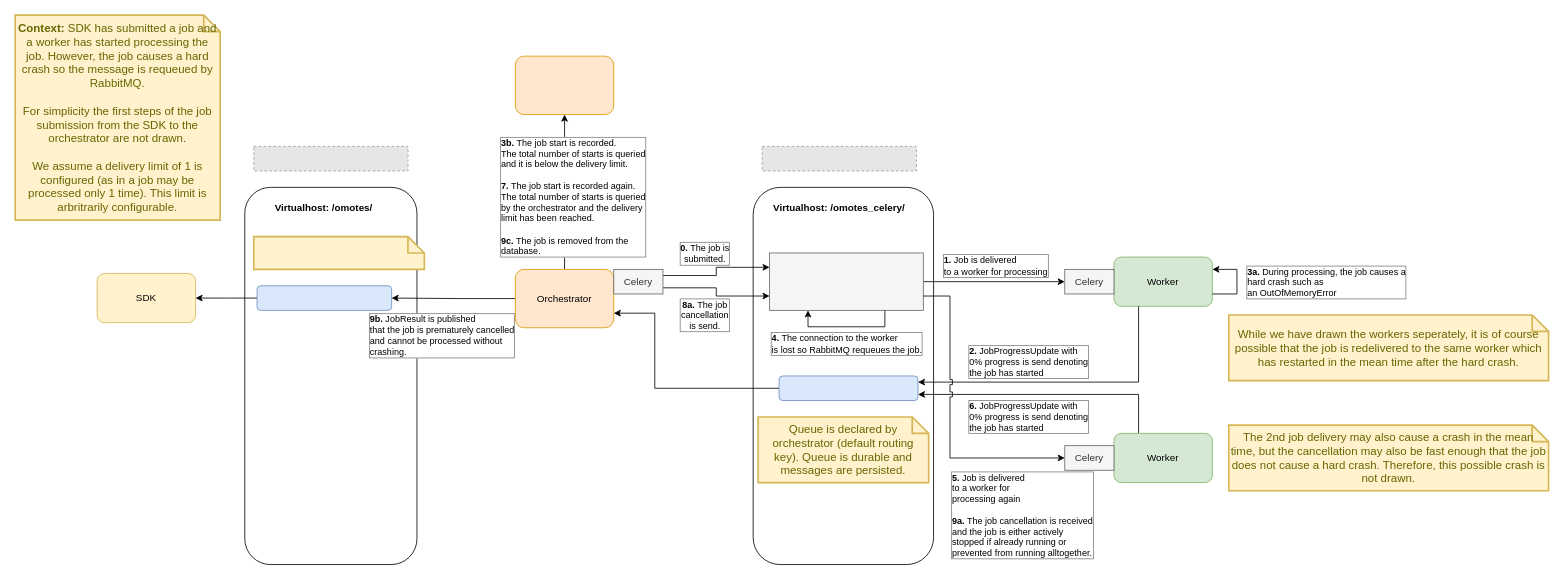
Image size: 1563x579. Some labels were removed from this diagram. Grey dashed boxes stand in for pictures. The shapes that lost their labels are listed below. From the top down, each one's box as (x1, y1, x2, y2) in pixels, then its label:
(515, 55, 614, 115): PostgreSQL
(253, 235, 425, 270): Queues are declared by SDK. Queues are durable.
(256, 285, 392, 310): jobs.<uuid>.result
(769, 252, 923, 310): Celery queues, controlled by Celery
(778, 375, 918, 401): omotes_task_progress_events
